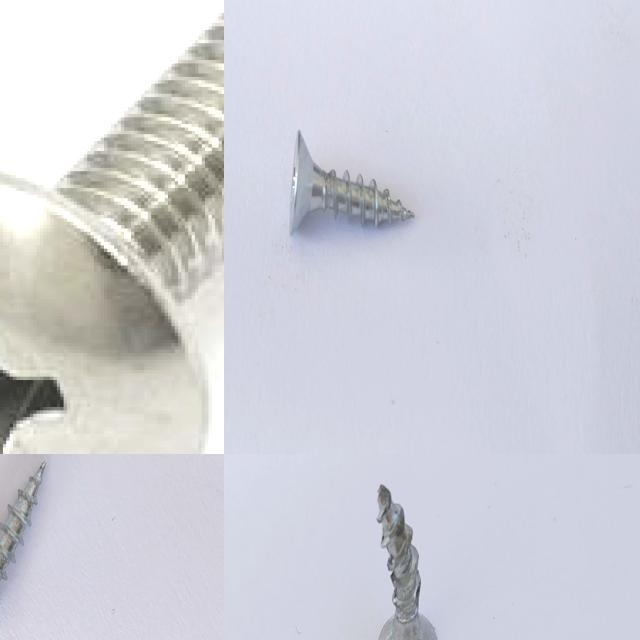Screw: (0, 1, 224, 454), (289, 129, 415, 234), (377, 483, 437, 640), (0, 461, 46, 582)
